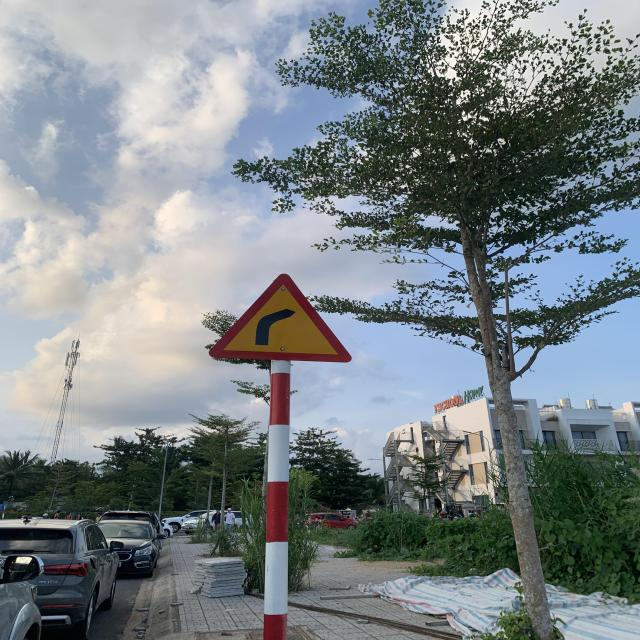Duong_Nguoi_Di_Bo_Cat_Ngang: (209, 272, 352, 362)
